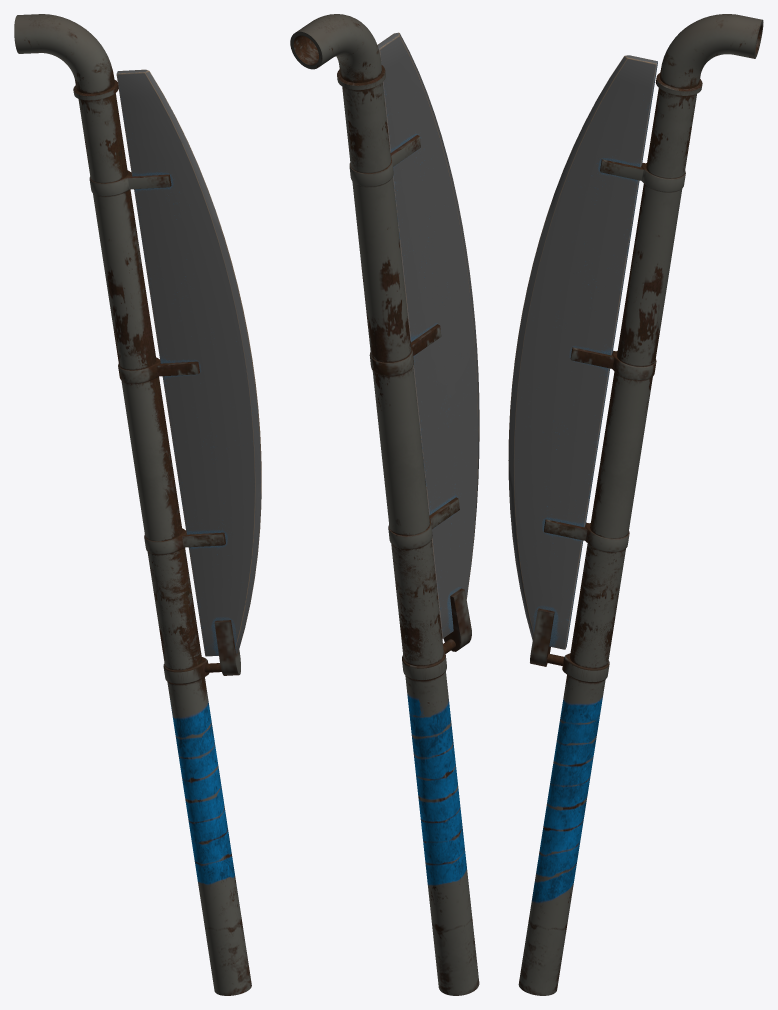
3 views of the same model, side by side, from view 1: azimuth 90°, elevation 25°; view 2: azimuth 150°, elevation 25°; view 3: azimuth 270°, elevation 25° (orthographic). The views are drawn at different scales.
Parts seen in each view (by area): view 1: Cube.001, Cylinder, Cylinder.002, Cylinder.003, Cylinder.004, Cube, Cylinder.001; view 2: Cylinder, Cube.001, Cylinder.003, Cylinder.002, Cylinder.004, Cube, Cylinder.001; view 3: Cube.001, Cylinder, Cylinder.004, Cylinder.003, Cylinder.002, Cube, Cylinder.001.
Boxes of the visible parts, x1,y1,x2,y2 form: Cube.001: [116, 69, 261, 656]; Cylinder: [14, 14, 251, 995]; Cylinder.002: [118, 357, 199, 383]; Cylinder.003: [144, 528, 225, 554]; Cylinder.004: [89, 170, 171, 196]; Cube: [214, 620, 240, 675]; Cylinder.001: [163, 657, 209, 684]; Cylinder: [290, 14, 479, 995]; Cube.001: [377, 32, 479, 638]; Cylinder.003: [388, 497, 459, 549]; Cylinder.002: [369, 324, 441, 376]; Cylinder.004: [349, 135, 420, 186]; Cube: [443, 588, 471, 651]; Cylinder.001: [402, 650, 446, 680]; Cube.001: [508, 55, 657, 649]; Cylinder: [518, 14, 763, 995]; Cylinder.004: [600, 159, 685, 192]; Cylinder.003: [544, 519, 629, 552]; Cylinder.002: [570, 347, 656, 380]; Cube: [530, 608, 554, 666]; Cylinder.001: [562, 653, 609, 682].
Size of the model in its own units: 0.473 by 6.46 by 1.51.
Materials: 1 (1 with a texture image).
